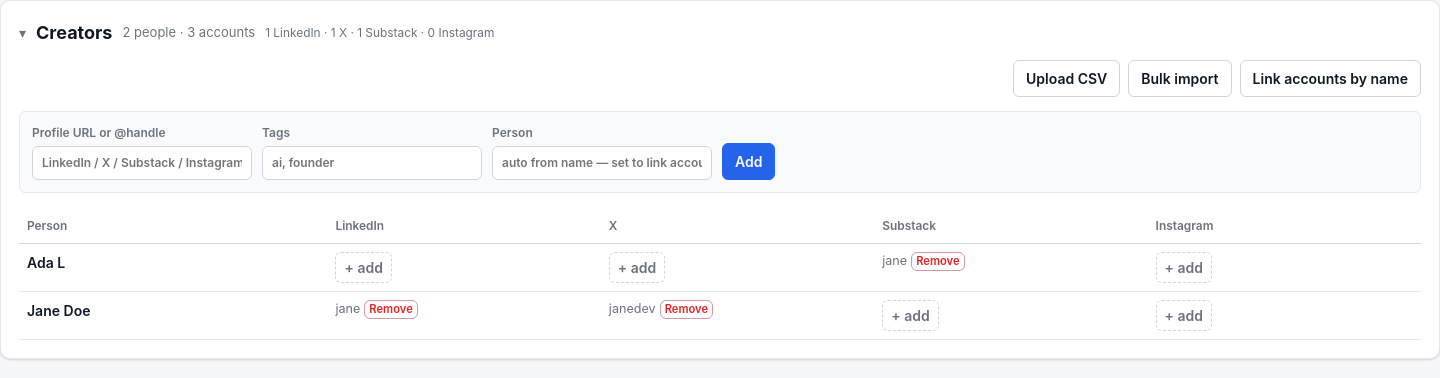
Scenario: CreatorManager — person x platform table (PRD §11.8) › links accounts by name via the backfill endpoint
The image size is (1440, 378).
Click the button "Link accounts by name" at (1330, 78), box x1=1240 y1=60 x2=1421 y2=97
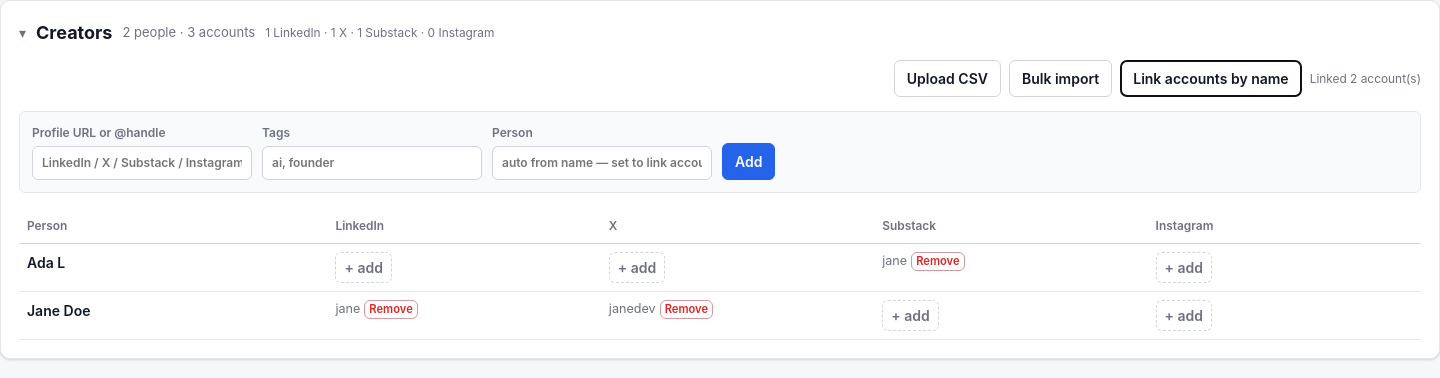
Now the text "Linked 2 account(s)" is shown, box x1=1310 y1=70 x2=1421 y2=88
